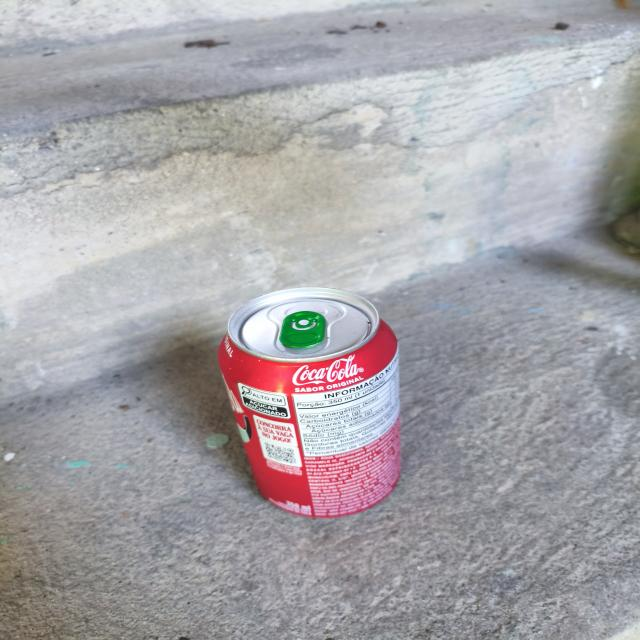Coca Cola: (215, 288, 407, 516)
